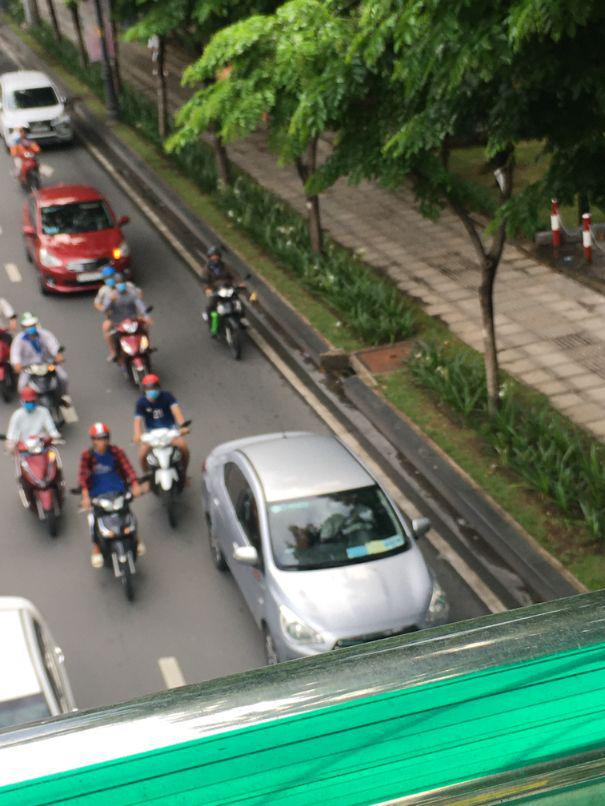car: (197, 431, 436, 665), (23, 178, 134, 296), (0, 69, 78, 154)
motorbike: (92, 497, 142, 599), (16, 442, 67, 536), (141, 427, 189, 526), (112, 321, 155, 388), (207, 289, 247, 360)
